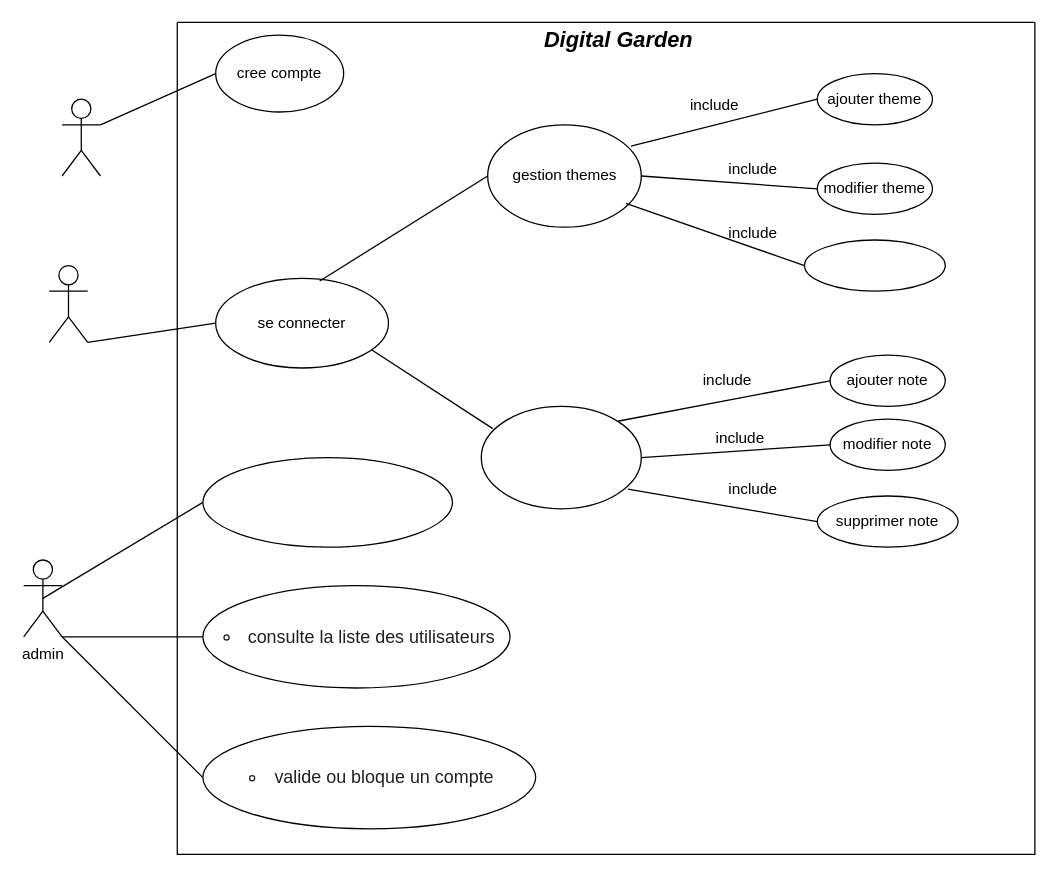
The diagram is 1057 pixels wide and 877 high, and some of its shapes have lost their labels. Here are the shapes that lost their labels. From the top down, the box of each, then its label:
(61, 98, 100, 176): visiteur
(803, 239, 945, 291): supprimer theme
(48, 264, 88, 342): utilisateur
(480, 405, 641, 509): gestion notes
(202, 456, 452, 547): connecte via un backoffice
